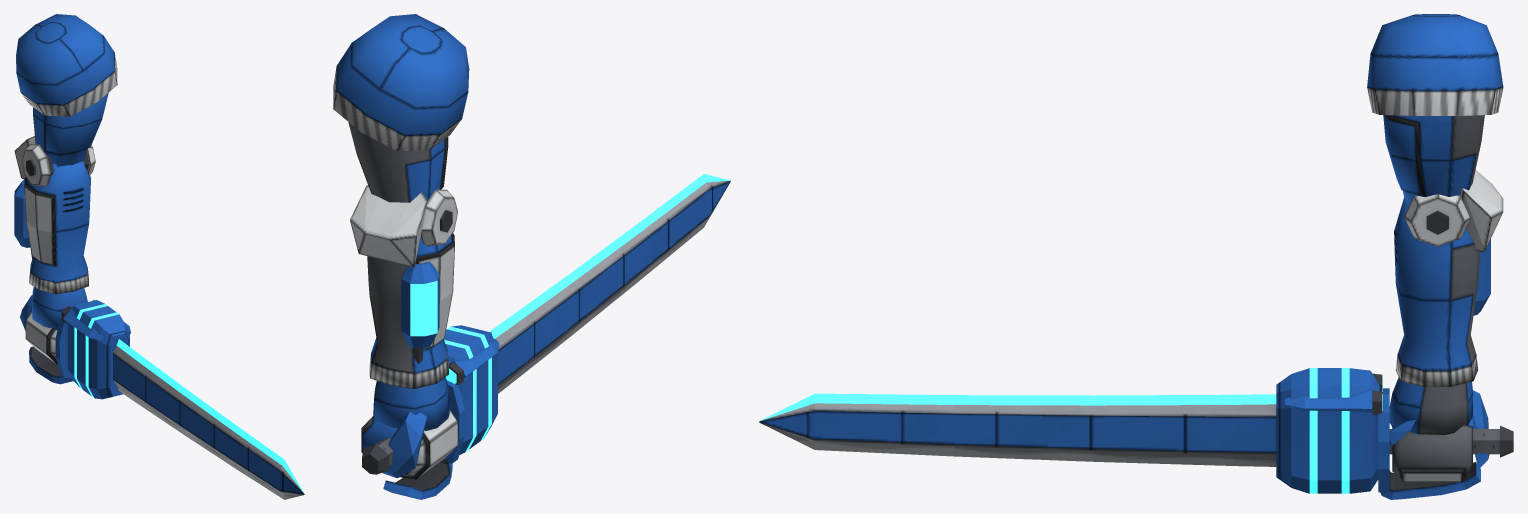
Rendered from LeftIonHeavySwordArmX.glb.
3 renders of one model, left to right at view 1: azimuth 30°, elevation 25°; view 2: azimuth 150°, elevation 25°; view 3: azimuth 270°, elevation 25°, orthographic. The views are drawn at different scales.
Parts seen in each view (by area): view 1: LeftIonHeavySwordArmX_Fist, LeftIonHeavySwordArmX_Upper, LeftIonHeavySwordArmX_Fore; view 2: LeftIonHeavySwordArmX_Fist, LeftIonHeavySwordArmX_Upper, LeftIonHeavySwordArmX_Fore; view 3: LeftIonHeavySwordArmX_Fist, LeftIonHeavySwordArmX_Upper, LeftIonHeavySwordArmX_Fore.
Boxes of the visible parts, x1,y1,x2,y2 form: LeftIonHeavySwordArmX_Fist: (20,287,304,499); LeftIonHeavySwordArmX_Upper: (16,14,117,166); LeftIonHeavySwordArmX_Fore: (14,136,95,294); LeftIonHeavySwordArmX_Fist: (361,174,730,499); LeftIonHeavySwordArmX_Upper: (333,14,469,202); LeftIonHeavySwordArmX_Fore: (350,185,457,388); LeftIonHeavySwordArmX_Fist: (759,368,1513,499); LeftIonHeavySwordArmX_Upper: (1367,14,1503,207); LeftIonHeavySwordArmX_Fore: (1394,170,1503,386).
Bounding box in the file's own units: 4.12 × 15.75 × 22.4.
Materials: 6 (5 with a texture image).
